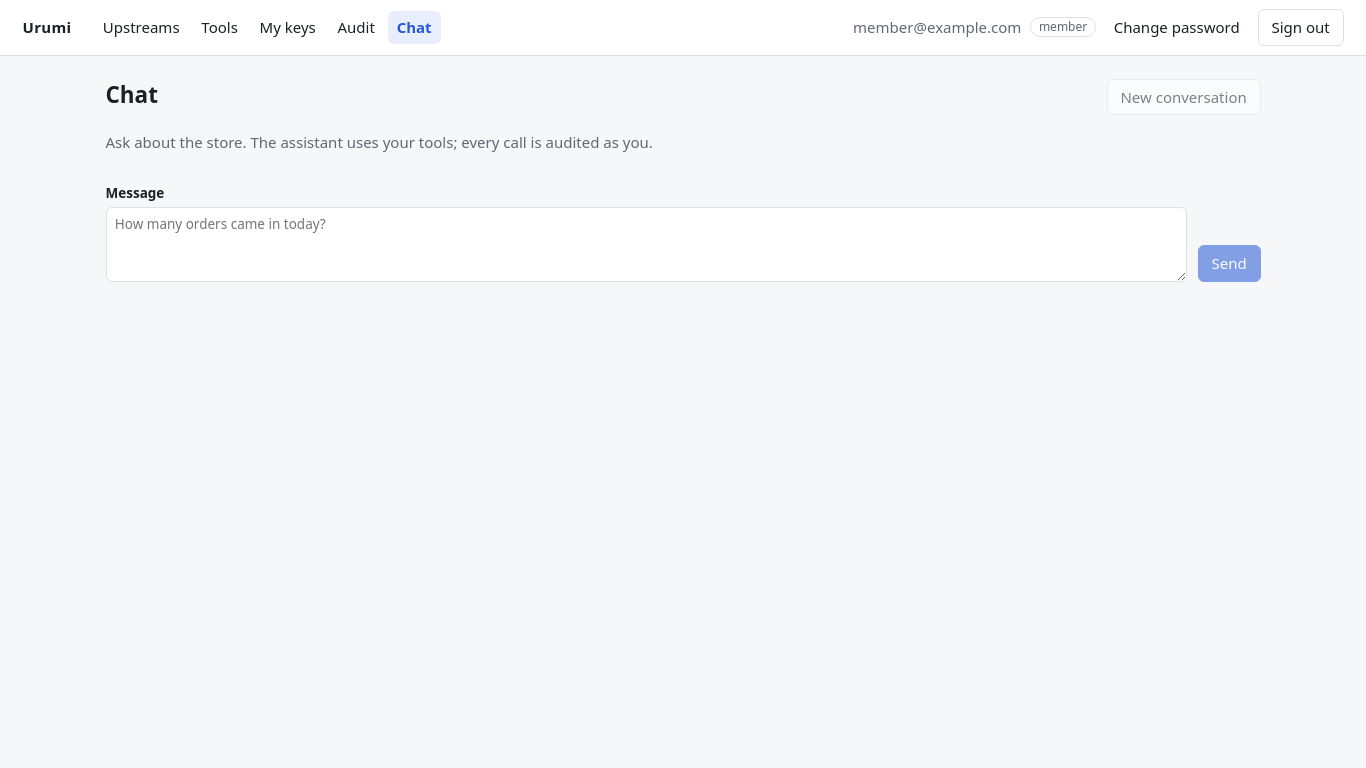
Test: chat page › sends the full history and renders each reply with the tools used
Type "How many orders today?" into the text box labelled "Message". click: x=646, y=244
box: [106,207,1186,282]
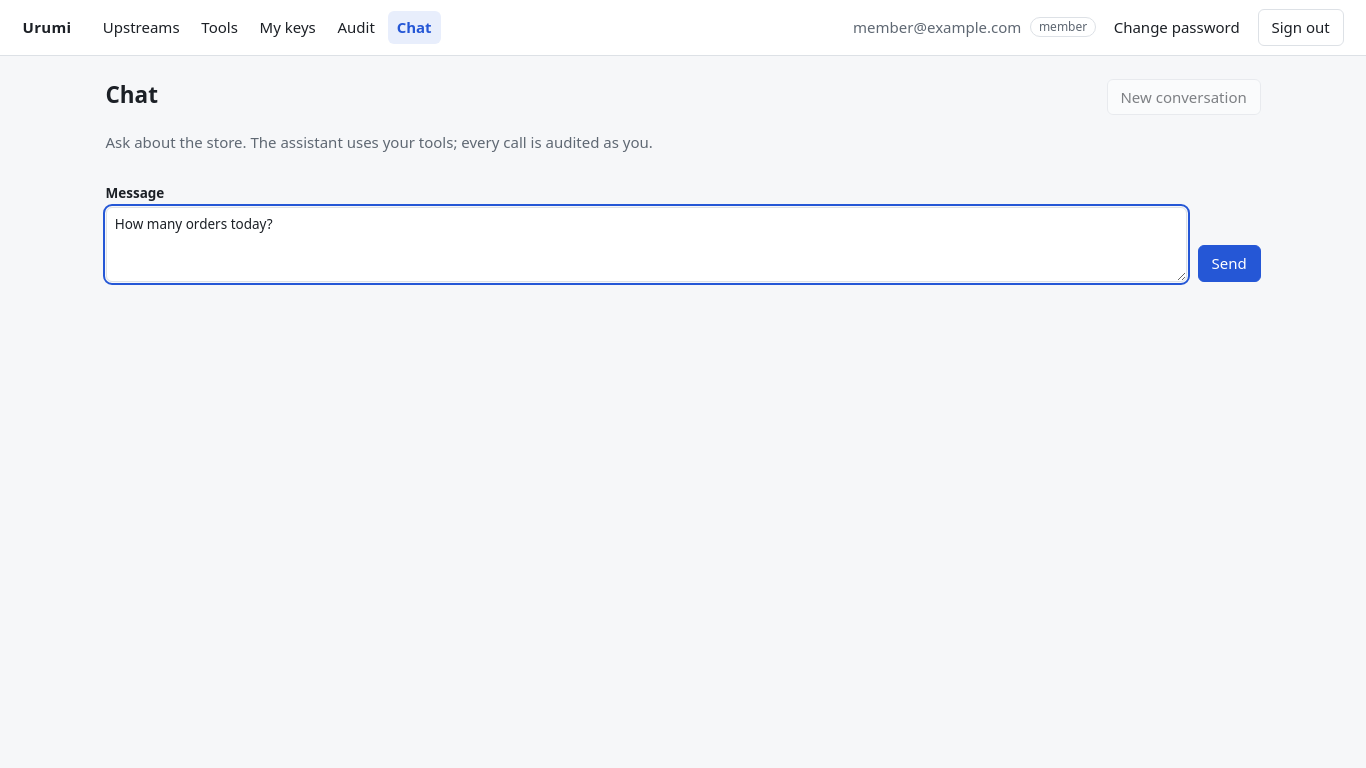
Click the button "Send". click: x=1229, y=264
box: [1198,245,1260,282]
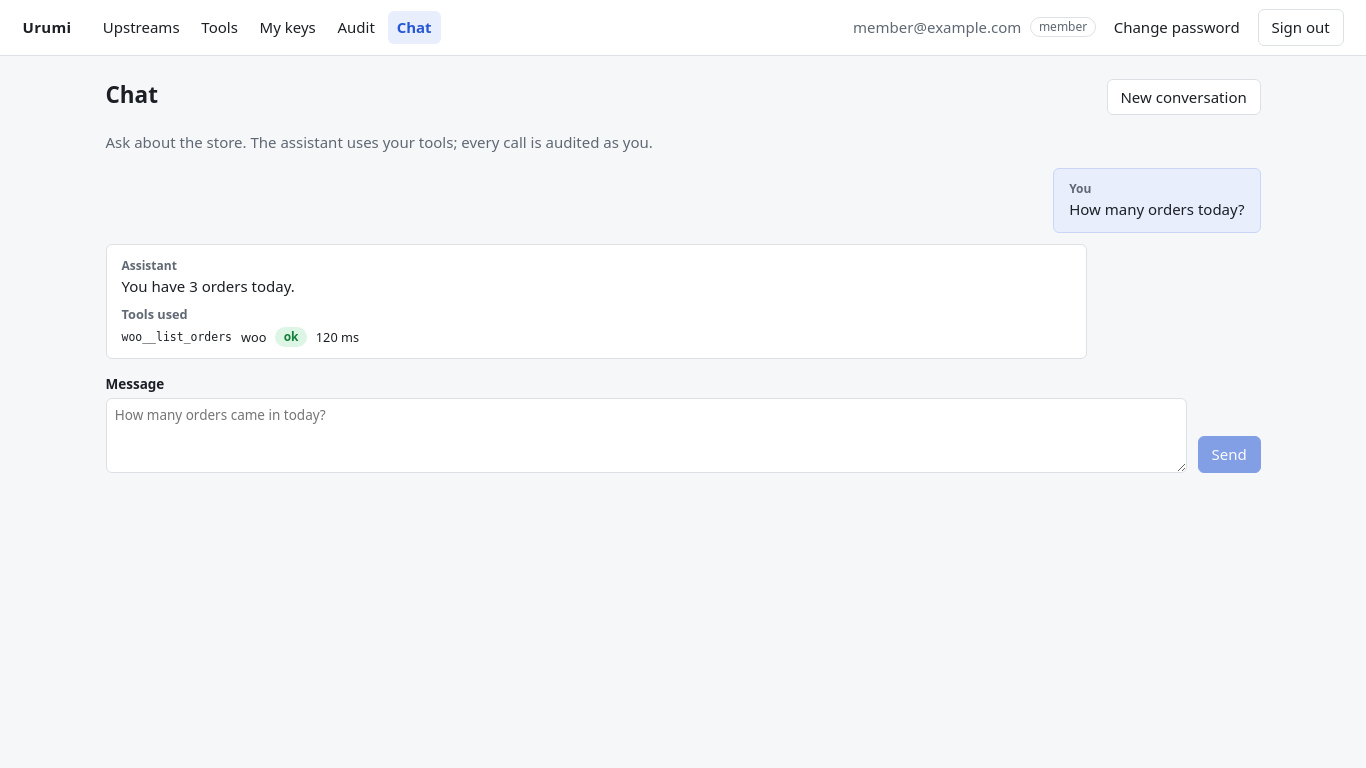
Expected: the text "You have 3 orders today." is shown, [122,276,295,296]
Expected: the text "woo__list_orders" is shown, [122,328,232,346]
Expected: the text "woo" is shown, [241,328,266,347]
Type "And order 42?" into the text box labelled "Message". click: x=646, y=436
box: [106,398,1186,473]
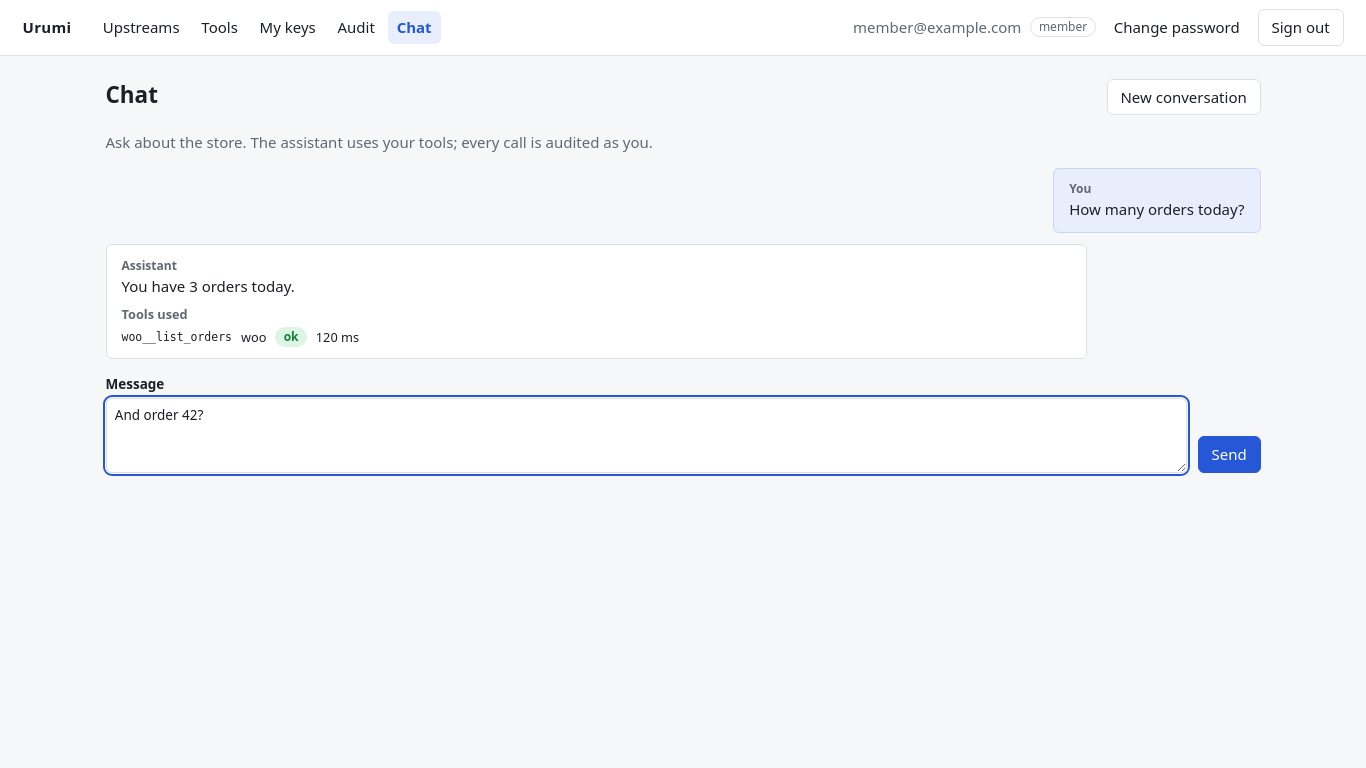
Click the button "Send". click: x=1229, y=455
box: [1198,436,1260,473]
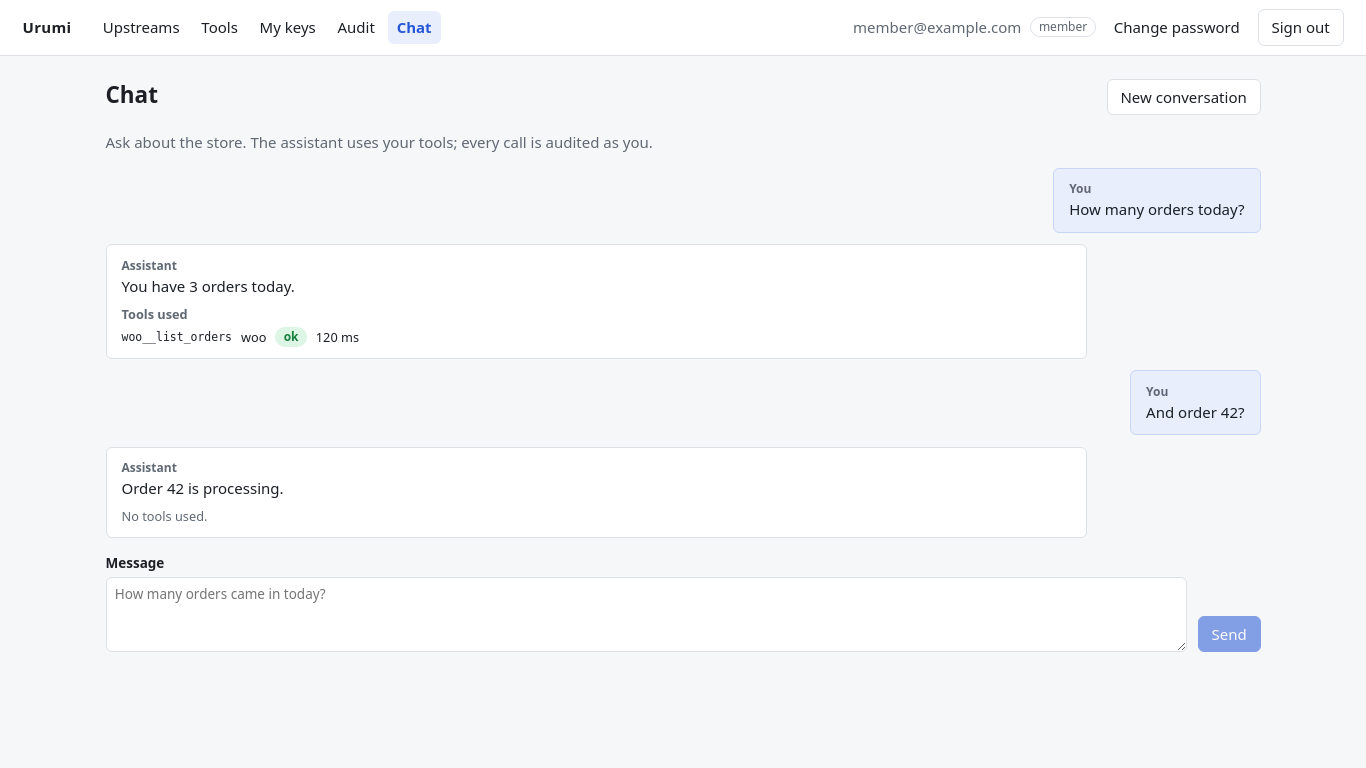
Expected: the text "Order 42 is processing." is shown, [122,478,284,498]
